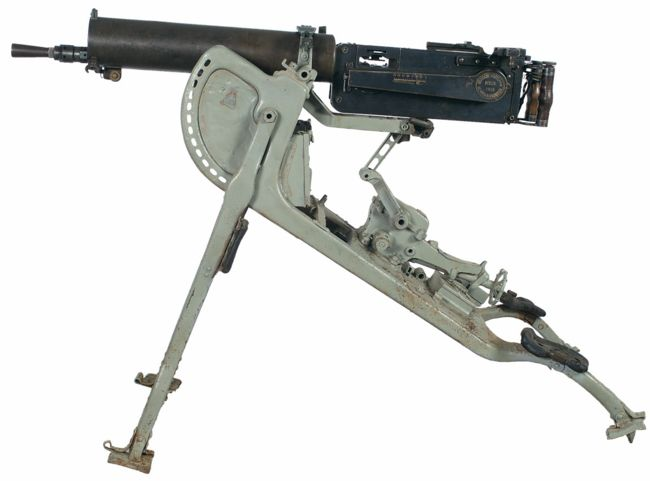rifle: (5, 11, 643, 466)
